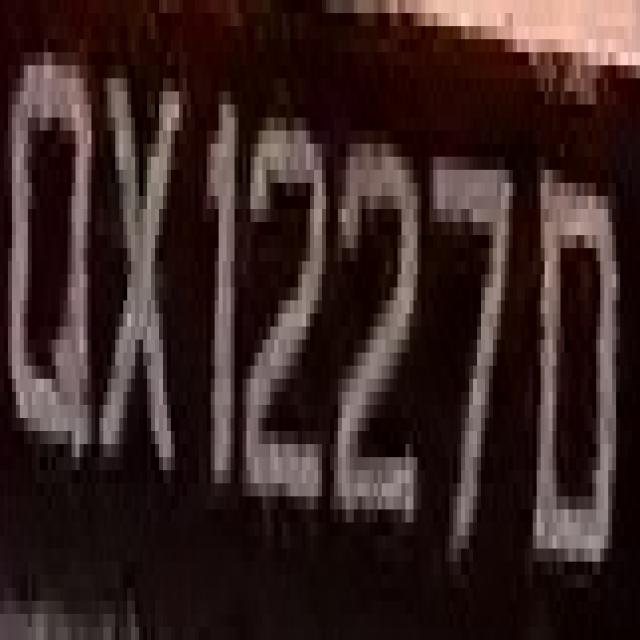1: (203, 78, 250, 536)
2: (330, 156, 441, 574), (250, 104, 338, 548)
7: (421, 78, 521, 588)
D: (529, 157, 624, 588)
Q: (12, 39, 95, 457)
X: (99, 39, 191, 510)
